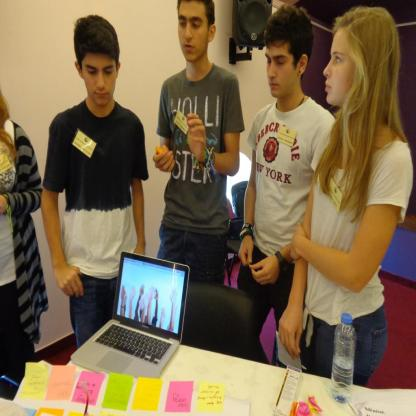board: (71, 249, 189, 379), (331, 313, 355, 404)
